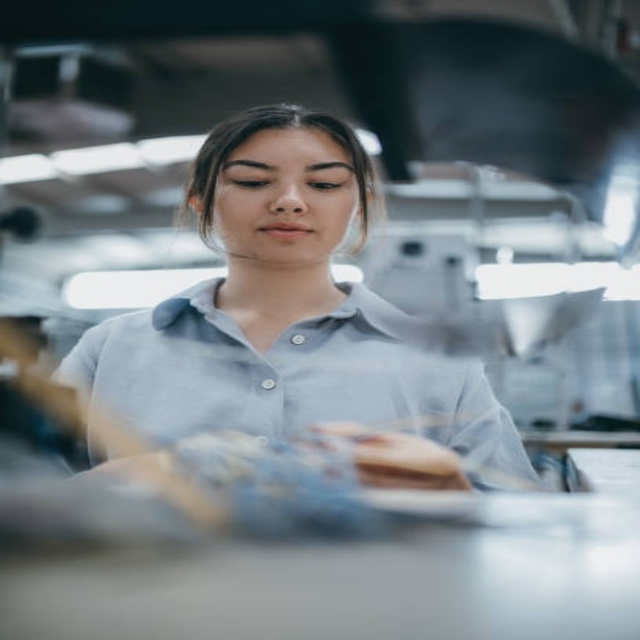Sin_gafas: (221, 154, 353, 192)
Sin_mascara: (248, 216, 322, 257)
